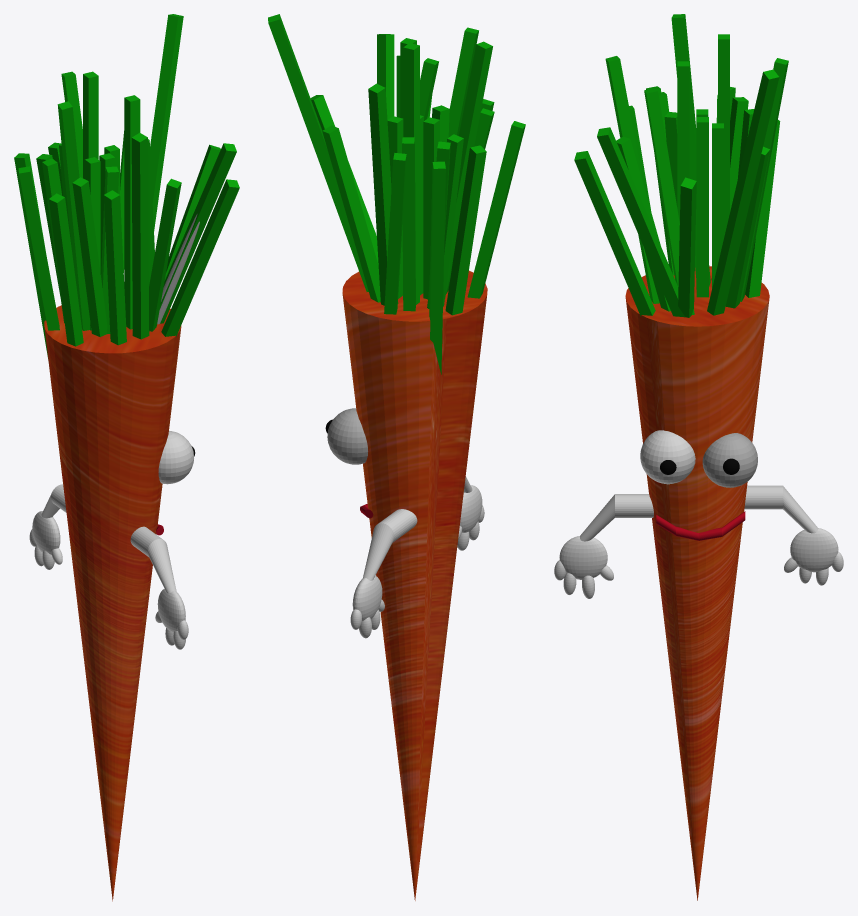
The model's file is marchew.obj.
The picture shows the model from 3 angles, left to right: view 1: azimuth 30°, elevation 25°; view 2: azimuth 150°, elevation 25°; view 3: azimuth 270°, elevation 25°; orthographic projection. The views are drawn at different scales.
Parts seen in each view (by area): view 1: Cone, Cube.010_Cube.011, Cube.007_Cube.008, Cube.025_Cube.027, Cube_Cube.001, Cube.001_Cube.002, Cube.011_Cube.012, Cube.022_Cube.024, Cube.008_Cube.009, Cube.018_Cube.020, Cube.020_Cube.022, Cube.009_Cube.010 (+17 smaller); view 2: Cone, Cube.007_Cube.008, Cube.005_Cube.006, Cube.020_Cube.022, Cube.006_Cube.007, Cube.019_Cube.021, Cube.022_Cube.024, Cube.001_Cube.002, Cube.014_Cube.015, Cube.021_Cube.023, Cube.004_Cube.005, Cube.013_Cube.014 (+13 smaller); view 3: Cone, Cube.007_Cube.008, Cube.008_Cube.009, Cube.025_Cube.027, Cube.024_Cube.026, Cube.017_Cube.018, Cube.016_Cube.017, Sphere, Sphere.001, Cube.006_Cube.007, Cube.010_Cube.011, Cube.015_Cube.016 (+13 smaller).
Boxes of the visible parts, left/top/right/bottom form: Cone: left=44, top=305, right=181, bottom=901; Cube.010_Cube.011: left=131, top=132, right=149, bottom=339; Cube.007_Cube.008: left=150, top=14, right=183, bottom=230; Cube.025_Cube.027: left=161, top=179, right=239, bottom=336; Cube_Cube.001: left=72, top=177, right=107, bottom=336; Cube.001_Cube.002: left=57, top=101, right=90, bottom=330; Cube.011_Cube.012: left=103, top=190, right=126, bottom=345; Cube.022_Cube.024: left=49, top=193, right=83, bottom=346; Cube.008_Cube.009: left=159, top=143, right=236, bottom=323; Cube.018_Cube.020: left=124, top=95, right=140, bottom=329; Cube.020_Cube.022: left=18, top=166, right=59, bottom=330; Cube.009_Cube.010: left=149, top=178, right=181, bottom=331; Cone: left=342, top=270, right=487, bottom=900; Cube.007_Cube.008: left=268, top=14, right=368, bottom=291; Cube.005_Cube.006: left=368, top=83, right=398, bottom=305; Cube.020_Cube.022: left=445, top=145, right=486, bottom=315; Cube.006_Cube.007: left=322, top=125, right=380, bottom=302; Cube.019_Cube.021: left=429, top=161, right=445, bottom=374; Cube.022_Cube.024: left=467, top=121, right=525, bottom=298; Cube.001_Cube.002: left=427, top=41, right=492, bottom=299; Cube.014_Cube.015: left=403, top=43, right=419, bottom=304; Cube.021_Cube.023: left=384, top=153, right=406, bottom=314; Cube.004_Cube.005: left=402, top=137, right=415, bottom=311; Cube.013_Cube.014: left=423, top=117, right=439, bottom=299; Cone: left=625, top=266, right=769, bottom=900; Cube.007_Cube.008: left=707, top=69, right=779, bottom=315; Cube.008_Cube.009: left=597, top=127, right=685, bottom=317; Cube.025_Cube.027: left=574, top=151, right=655, bottom=316; Cube.024_Cube.026: left=644, top=88, right=694, bottom=314; Cube.017_Cube.018: left=696, top=117, right=708, bottom=297; Cube.016_Cube.017: left=678, top=177, right=696, bottom=317; Sphere: left=702, top=433, right=757, bottom=487; Sphere.001: left=640, top=430, right=695, bottom=484; Cube.006_Cube.007: left=725, top=146, right=769, bottom=308; Cube.010_Cube.011: left=605, top=56, right=659, bottom=303; Cube.015_Cube.016: left=712, top=123, right=723, bottom=288.
Bounding box in the file's own units: 0.3312 × 1.41 × 0.4209.
